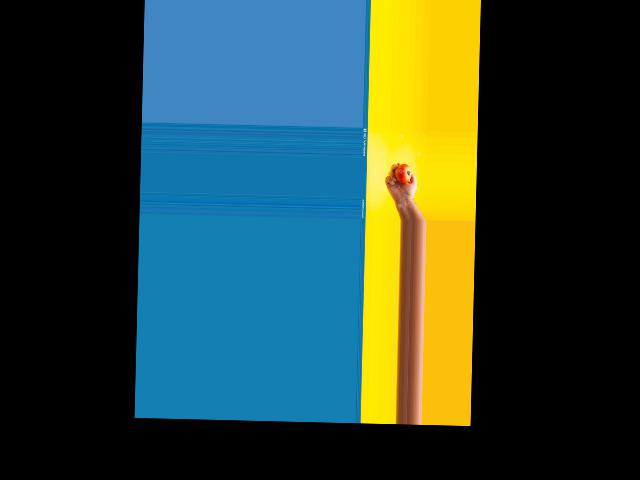tomato: (394, 164, 411, 183)
